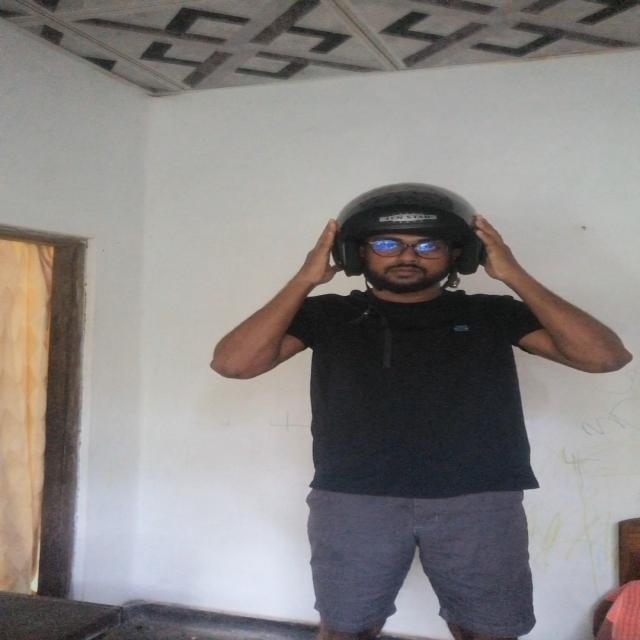Helmet_Wearer: (306, 171, 509, 308)
Person: (231, 192, 640, 640)
